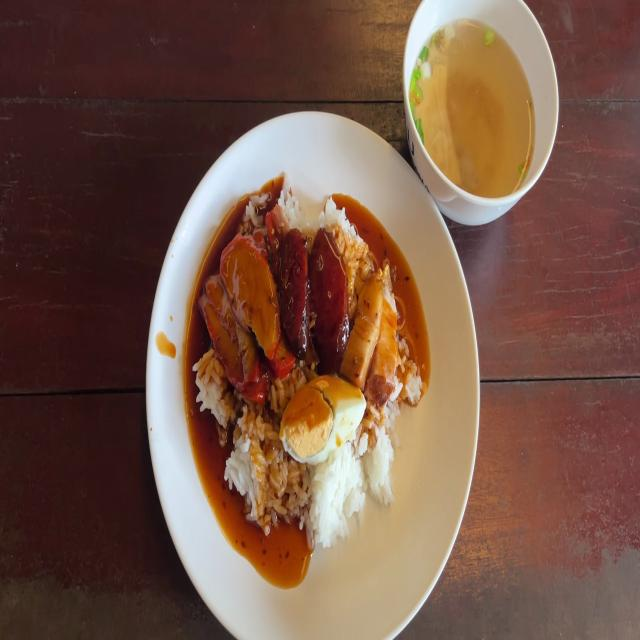01boiled_egg: (281, 376, 361, 452)
01chainese_sausage: (281, 230, 347, 361)
01crispy_pork: (354, 265, 398, 395)
01red_pork: (203, 242, 279, 385)
01red_pork_and_crispy_pork: (191, 180, 432, 563)
01rice: (229, 426, 392, 524)
